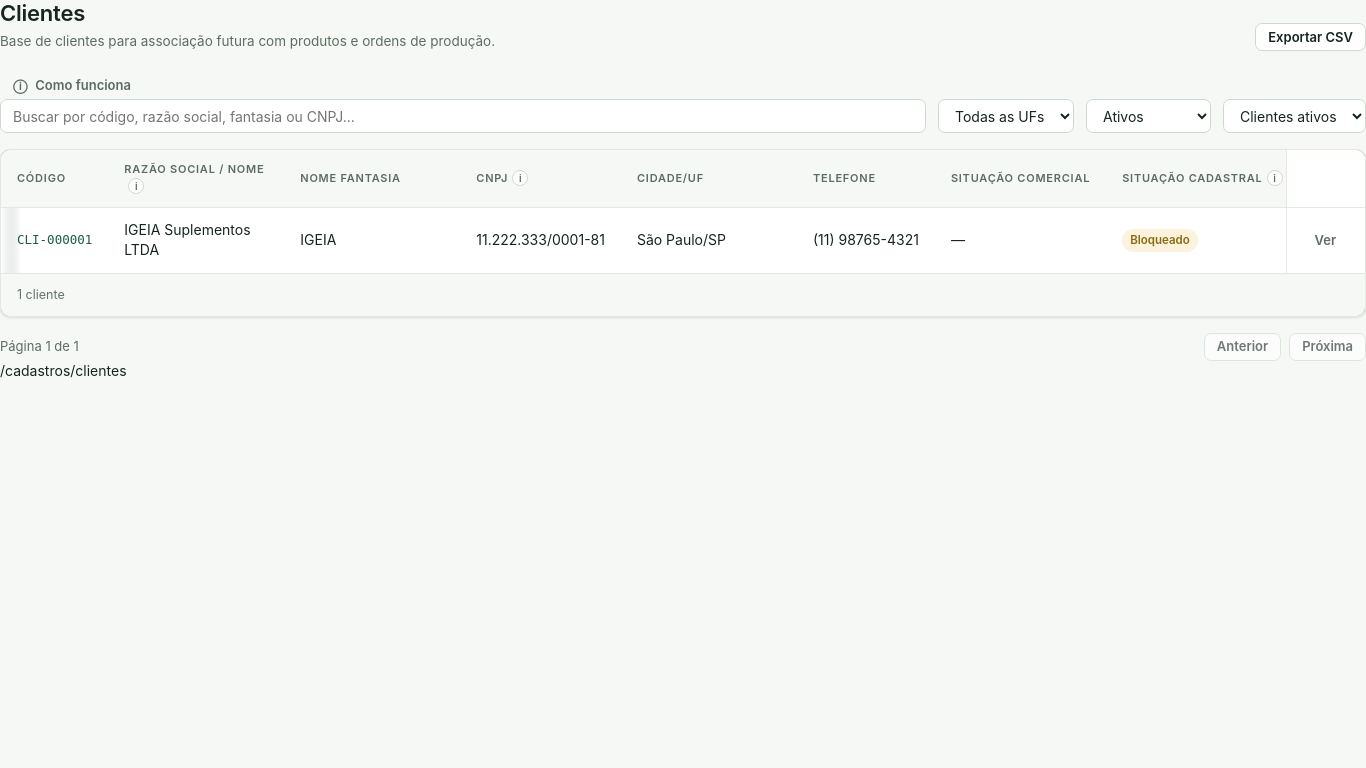
CUSTOMER-EDIT-PERMISSIONS-01 — os demais perfis consultam › PRODUCTION: sem Novo cliente; o Cliente abre em consulta, sem campo editável e sem Salvar
Expected: the text "CLI-000001" is shown, [1,207,108,272]
Click the button "Ver".
click(1325, 240)  # box [1301,226,1349,254]
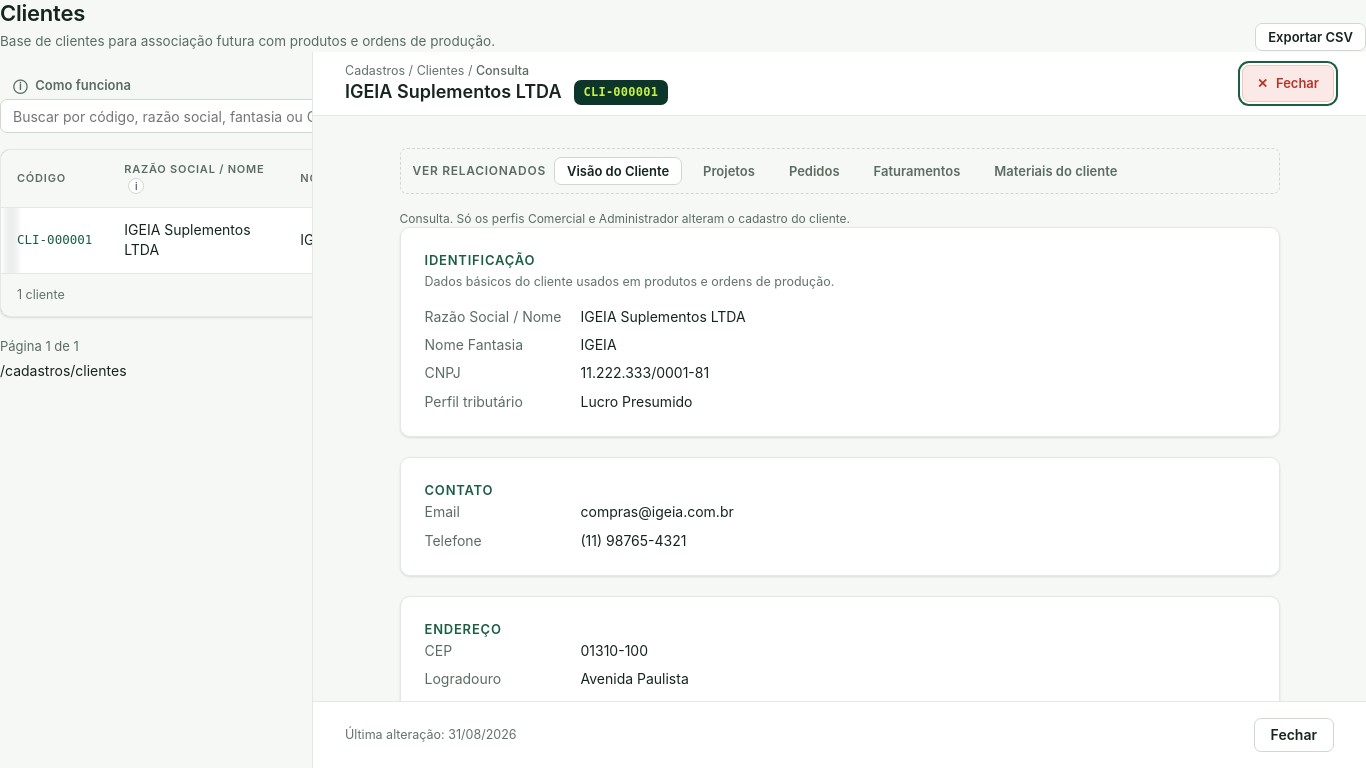
Now the dialog shows "Cadastros / Clientes / Consulta"
Now the dialog shows "Consulta. Só os perfis Comercial e Administrador alteram o cadastro do cliente."
Now the heading "IGEIA Suplementos LTDA" is shown, box [345,81,562,104]
Click the button "Fechar".
click(1294, 735)  # box [1254,718,1334,752]
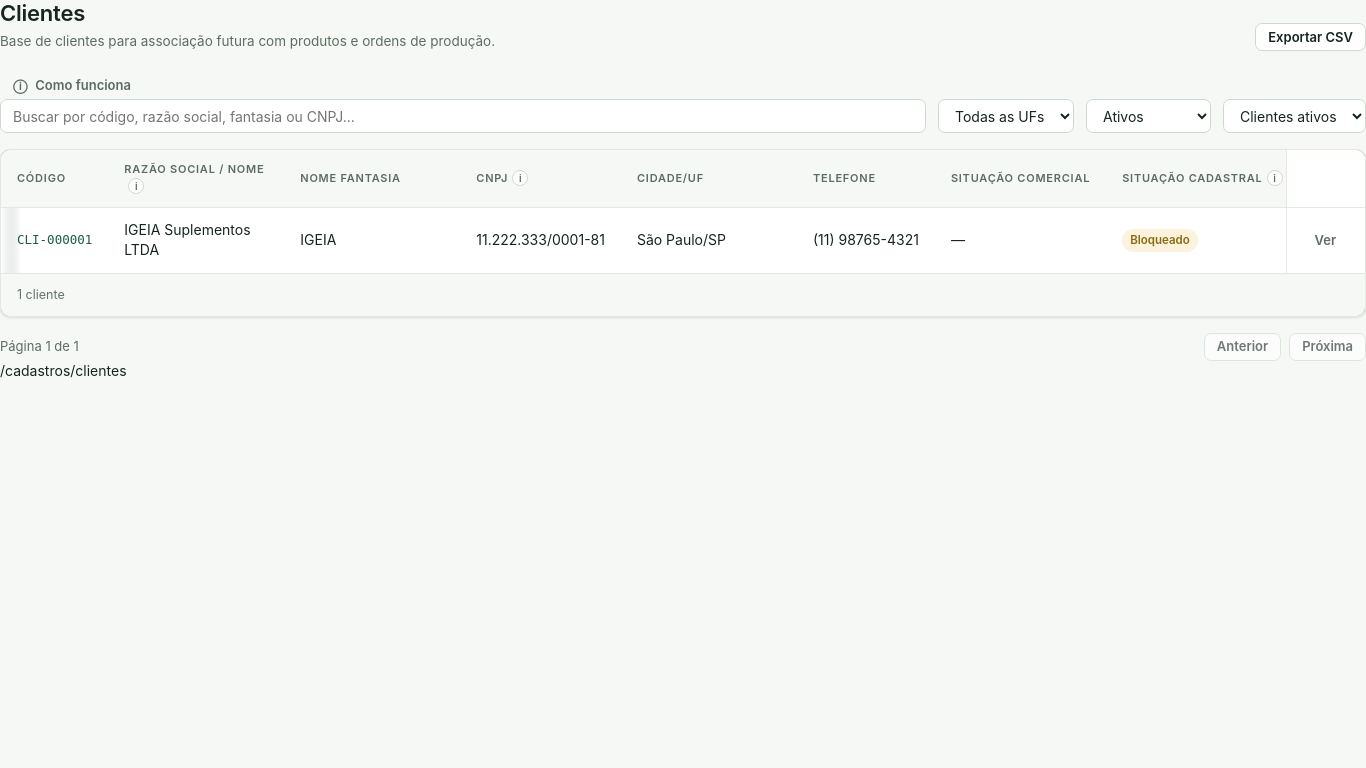
Now the dialog is gone
